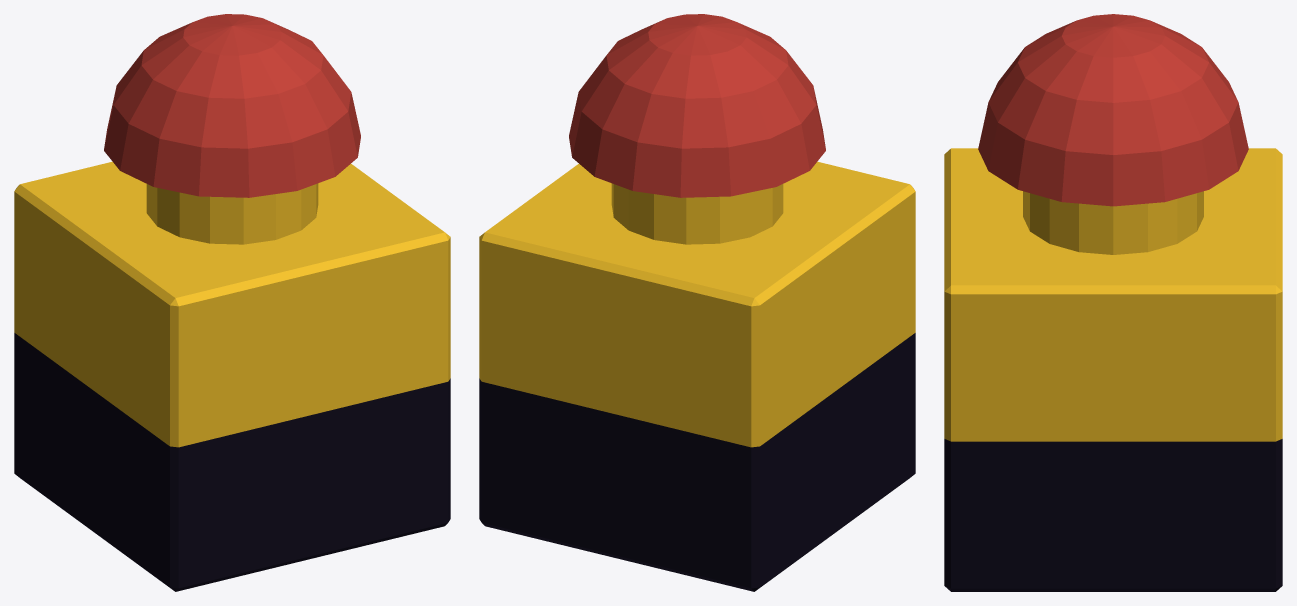
File: NotfallKnopf.fbx
3 views of the same model, side by side, from view 1: azimuth 30°, elevation 25°; view 2: azimuth 150°, elevation 25°; view 3: azimuth 270°, elevation 25° (orthographic). The views are drawn at different scales.
Parts seen in each view (by area): view 1: Cube; view 2: Cube; view 3: Cube.
Boxes of the visible parts, left/top/right/bottom form: Cube: left=14, top=14, right=450, bottom=591; Cube: left=479, top=14, right=915, bottom=591; Cube: left=944, top=14, right=1282, bottom=591.
Size of the model in its own units: 24.69 by 40.02 by 24.69.
